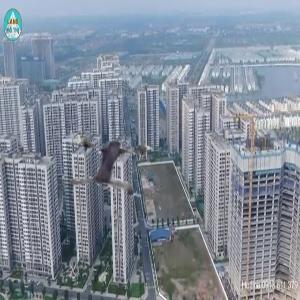drone: (58, 107, 164, 213)
